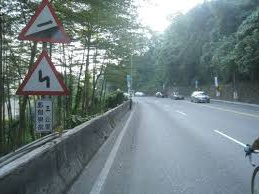Double_bend_left: (15, 50, 72, 95)
